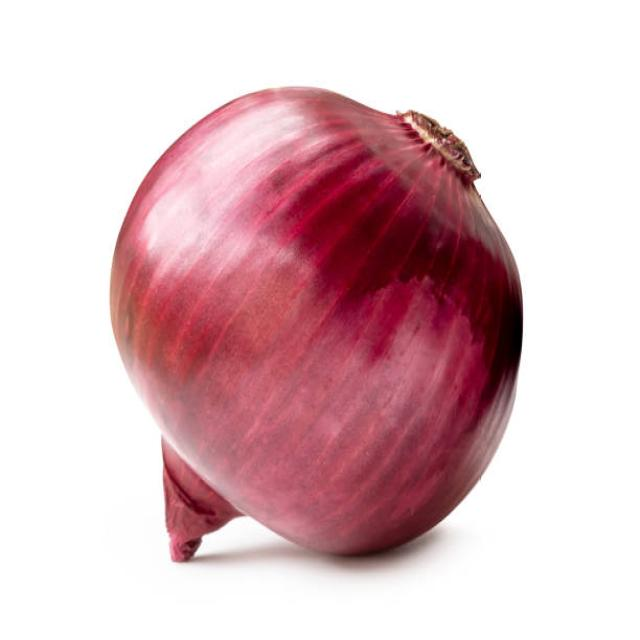onion: (105, 71, 522, 572)
